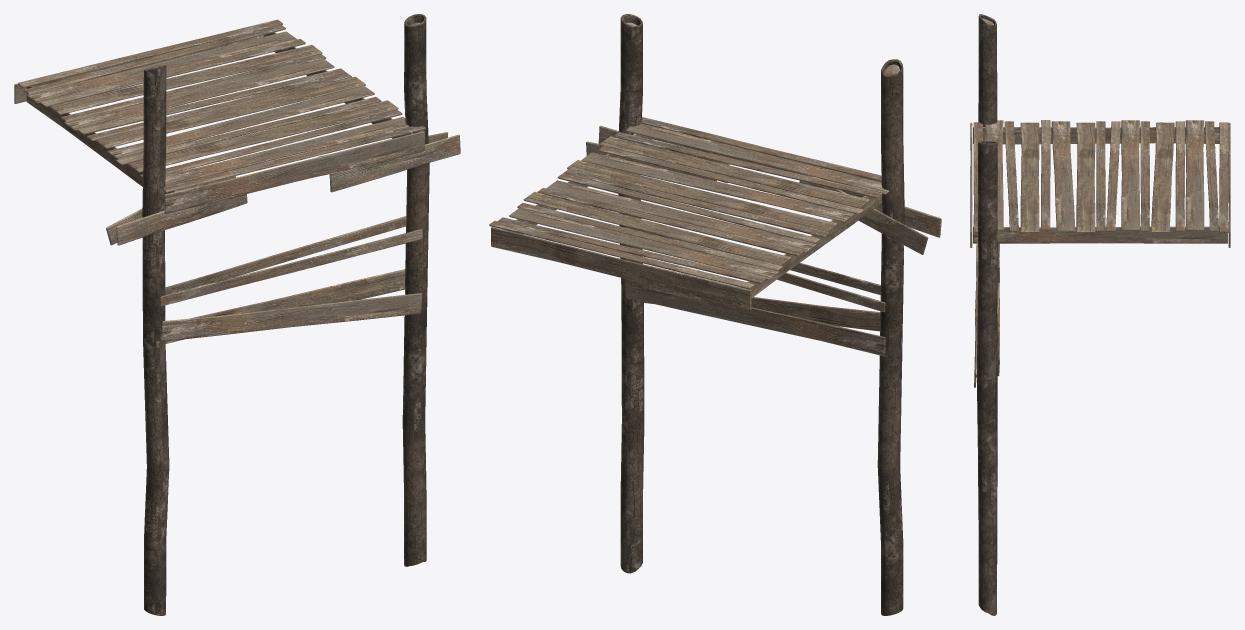
Rendered from SM_Gangway_04.fbx.
The picture shows the model from 3 angles, left to right: view 1: azimuth 30°, elevation 25°; view 2: azimuth 150°, elevation 25°; view 3: azimuth 270°, elevation 25°; orthographic projection. The views are drawn at different scales.
Parts seen in each view (by area): view 1: SM_Gangway_04_LOD0; view 2: SM_Gangway_04_LOD0; view 3: SM_Gangway_04_LOD0.
Part boxes in pixels (x1,y1,x2,y2): SM_Gangway_04_LOD0: (14,14,460,615); SM_Gangway_04_LOD0: (489,14,941,615); SM_Gangway_04_LOD0: (970,14,1230,615).
Size of the model in its own units: 528 by 403 by 837.
3 materials, 3 textured.
